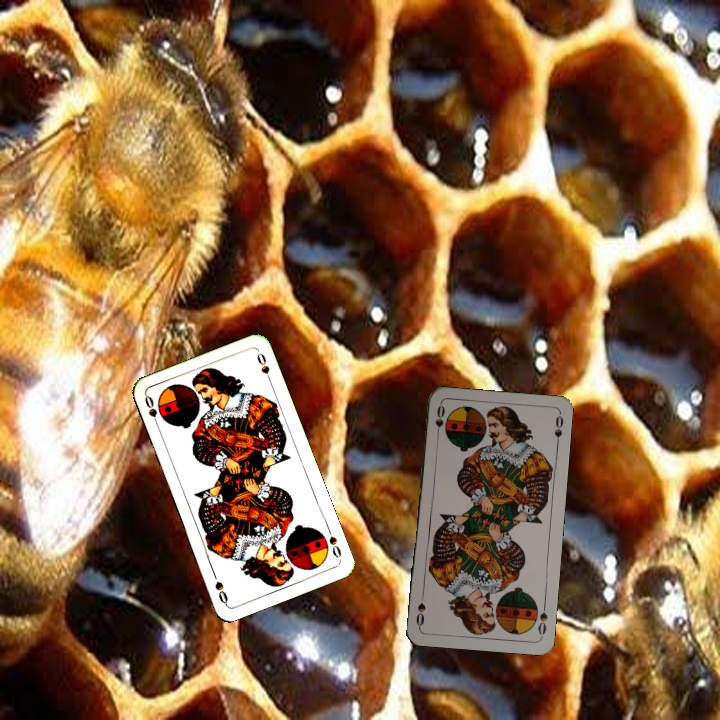SO: (140, 391, 164, 430), (323, 523, 344, 561), (431, 401, 447, 442), (534, 599, 550, 639)
